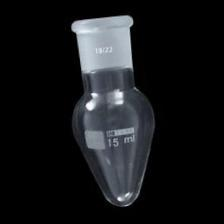Pear shaped flask: (59, 16, 151, 209)
